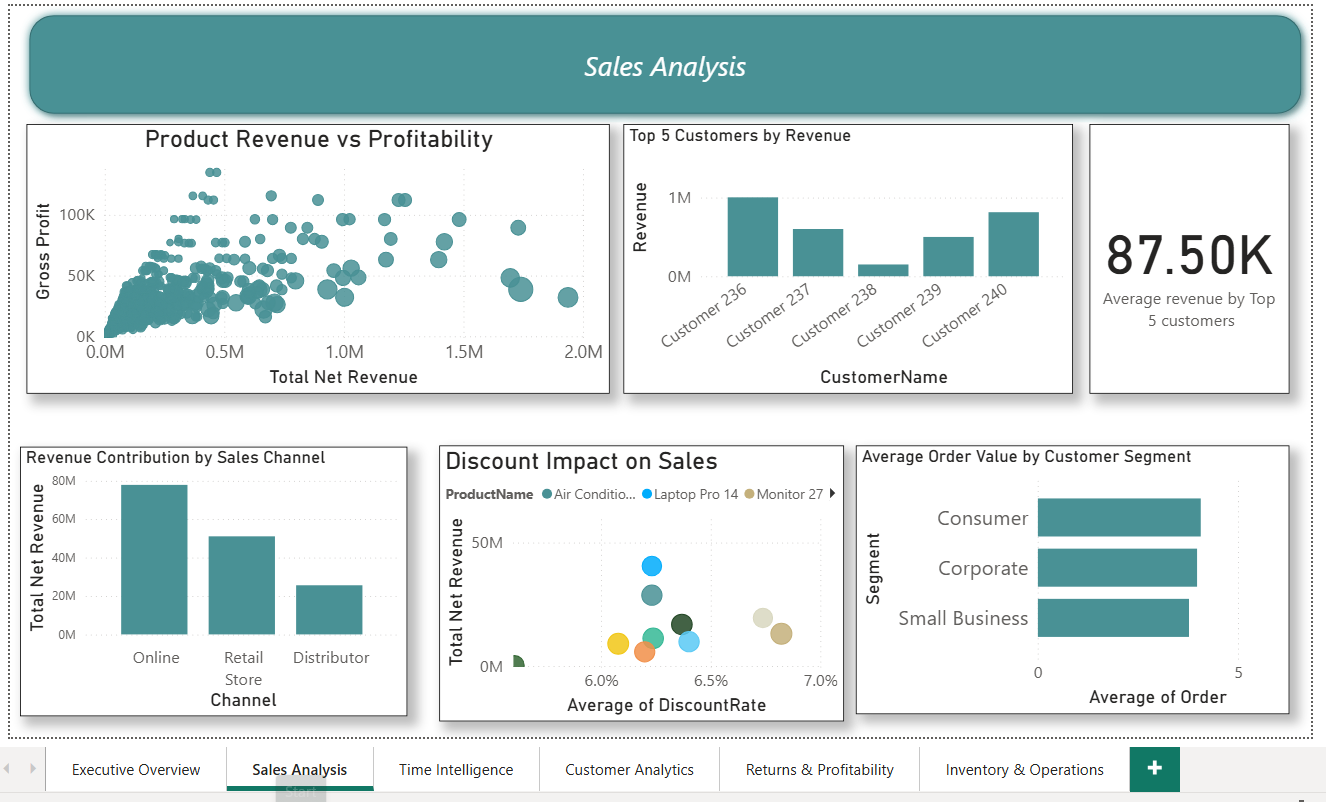

Layout of this report page (visuals, bound fields, positions):
{"tool":"powerbi","page":{"name":"Sales Analysis","canvas":[1280,720],"ordinal":1},"visuals":[{"type":"shape","box":[10,0,1270,115],"z":0},{"type":"scatterChart","title":"Product Revenue vs Profitability","fields":{"X":["Orders_Raw.Total Net Revenue"],"Size":["Sum(Orders_Raw.Quantity)"],"Y":["Orders_Raw.Gross Profit"]},"box":[15.7,115.7,574.3,265.7],"z":1000},{"type":"scatterChart","title":"Discount Impact on Sales","fields":{"Y":["Orders_Raw.Total Net Revenue"],"Size":["Sum(Orders_Raw.Quantity)"],"Series":["Products.ProductName"],"X":["Avg(Orders_Raw.DiscountRate)"]},"box":[422.9,432.9,398.6,271.4],"z":2000},{"type":"card","fields":{"Values":["Orders_Raw.avg_revenue"]},"box":[1062.9,115.7,197.1,265.7],"z":3000},{"type":"clusteredColumnChart","title":"Top 5 Customers by Revenue","fields":{"Category":["Customers.CustomerName"],"Y":["Sum(Orders_Raw.Net Revenue)"]},"box":[604.3,115.7,442.9,265.7],"z":4000},{"type":"clusteredColumnChart","title":"Revenue Contribution by Sales Channel","fields":{"Category":["Orders_Raw.Channel"],"Y":["Orders_Raw.Total Net Revenue"]},"box":[10,434.3,381.4,265.7],"z":5000},{"type":"clusteredBarChart","title":"Average Order Value by Customer Segment","fields":{"Category":["Customers.Segment"],"Y":["Avg(Orders_Raw.Quantity)"]},"box":[832.9,432.9,427.1,264.3],"z":6000}]}

Visuals, with their boxes in screenshot pixels (x1, y1, x2, y2):
shape: box=[10, 0, 1308, 117]
"Product Revenue vs Profitability" scatterChart: box=[16, 118, 603, 390]
"Discount Impact on Sales" scatterChart: box=[432, 442, 839, 720]
card - Orders_Raw.avg_revenue: box=[1086, 118, 1287, 390]
"Top 5 Customers by Revenue" clusteredColumnChart: box=[617, 118, 1070, 390]
"Revenue Contribution by Sales Channel" clusteredColumnChart: box=[10, 444, 400, 715]
"Average Order Value by Customer Segment" clusteredBarChart: box=[851, 442, 1287, 712]
